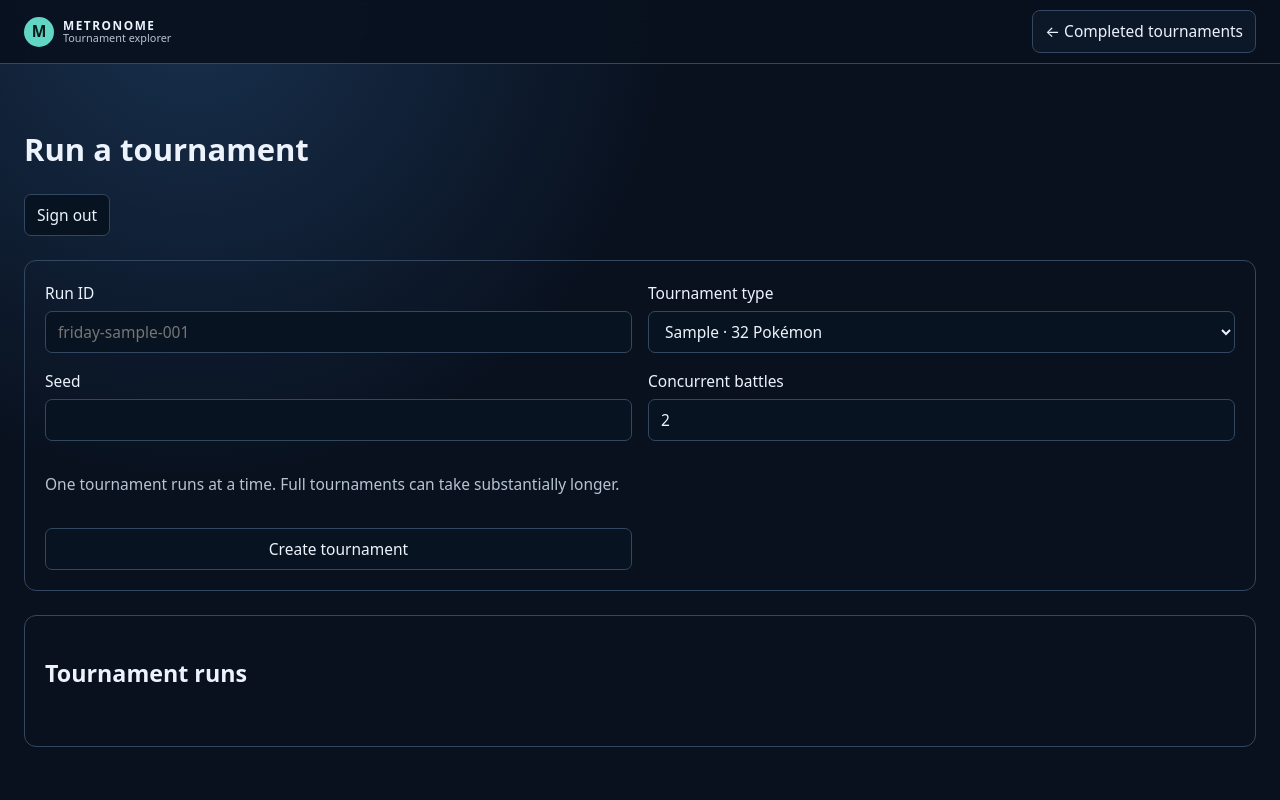
Test: successful creation selects pending progress on a protected route
Expected: the button "Create tournament" is shown, left=45, top=528, right=632, bottom=570
In the field labelled "Run ID": (338, 332) left=45, top=311, right=632, bottom=353, type "accepted"
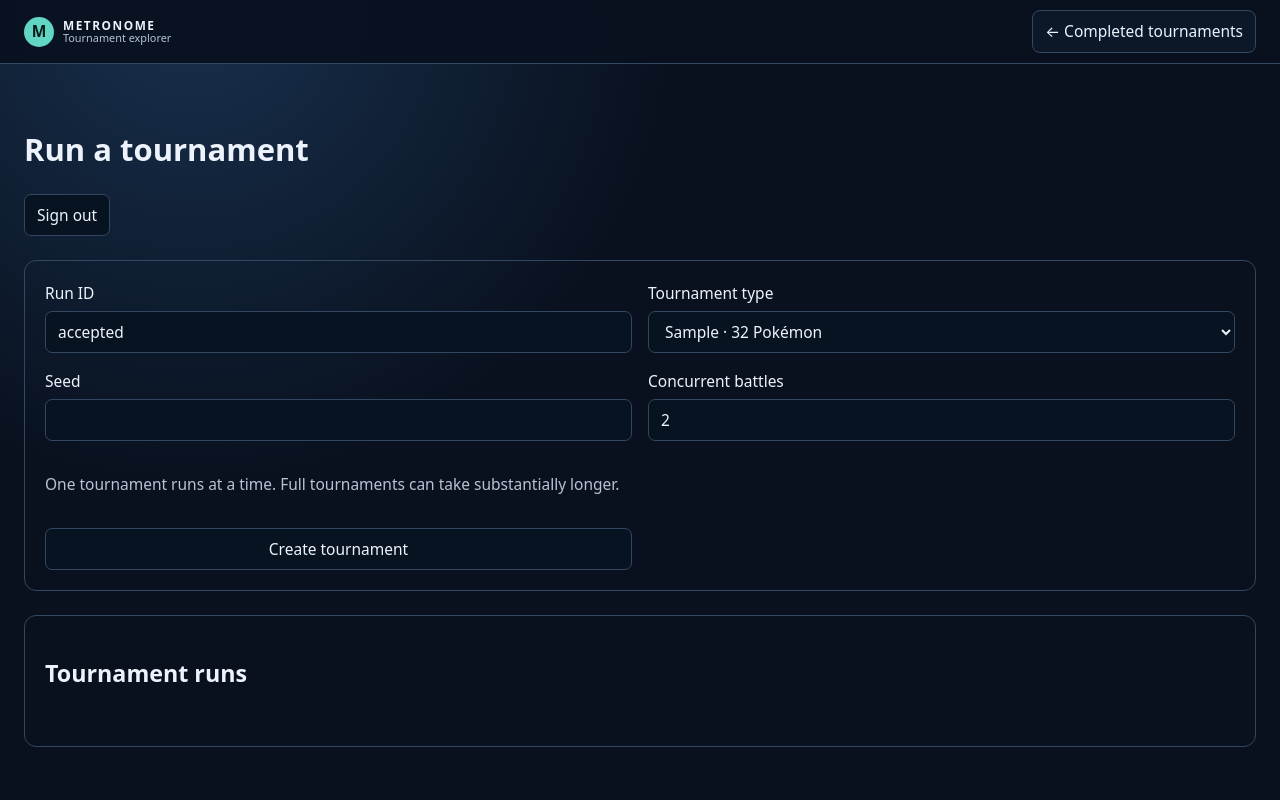
In the field labelled "Seed": (338, 420) left=45, top=399, right=632, bottom=441, type "seed"
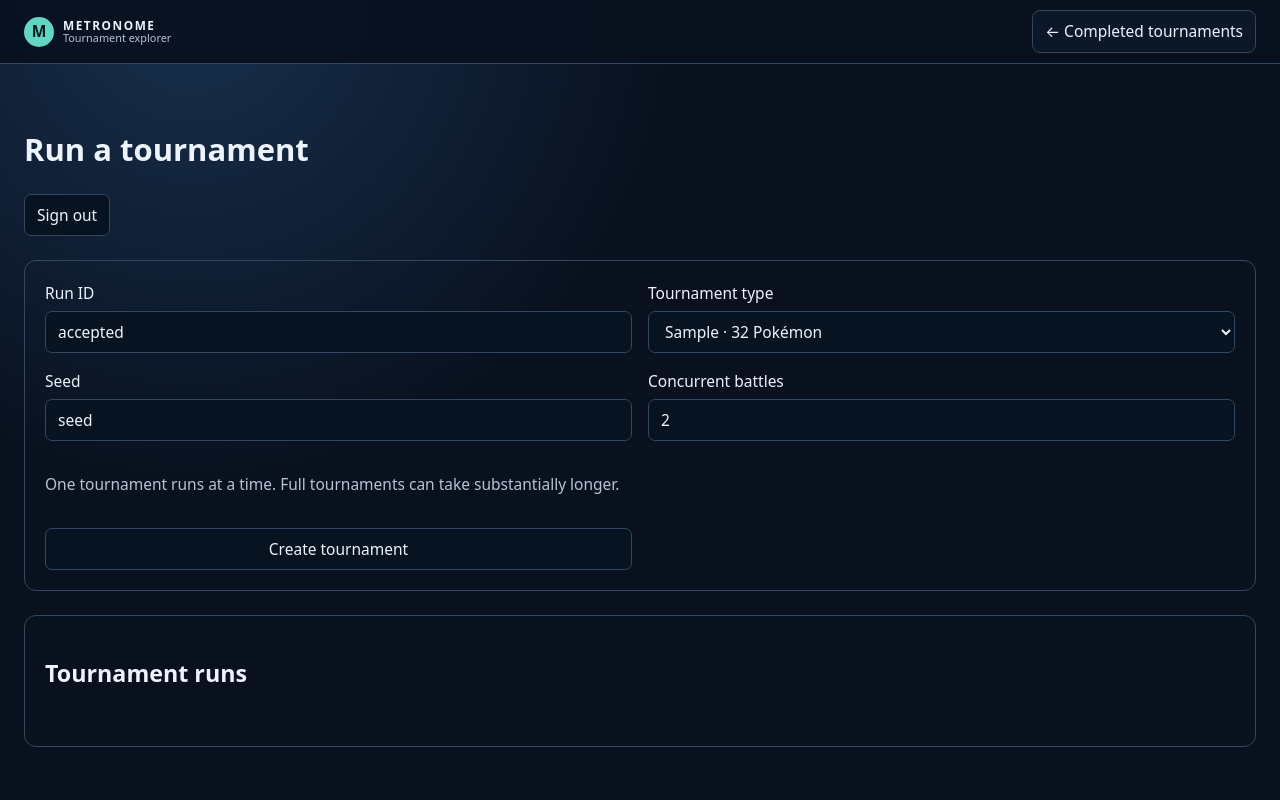
Click the button "Create tournament": (338, 549) left=45, top=528, right=632, bottom=570
(page scrolled)
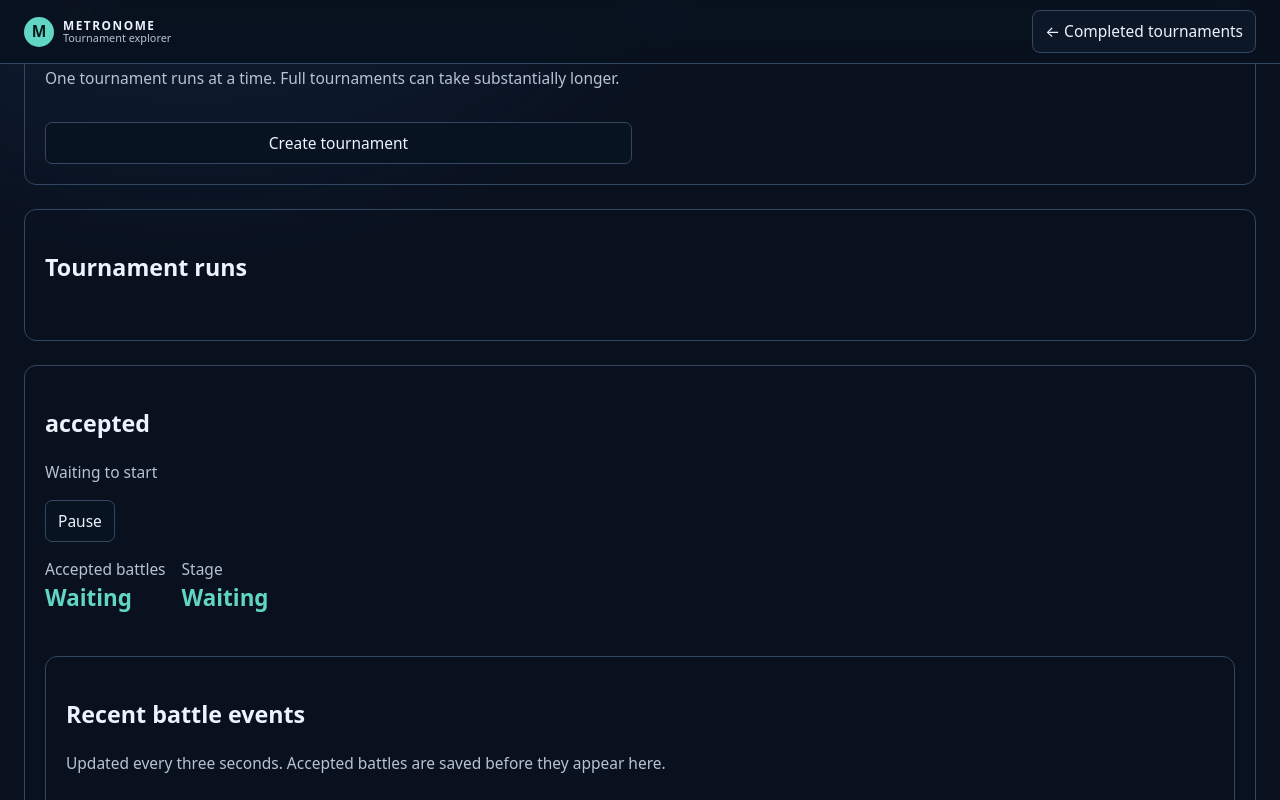
Expected: the heading "accepted" is shown, left=45, top=407, right=150, bottom=439
Expected: the message reads "Waiting to start", left=45, top=461, right=157, bottom=483
